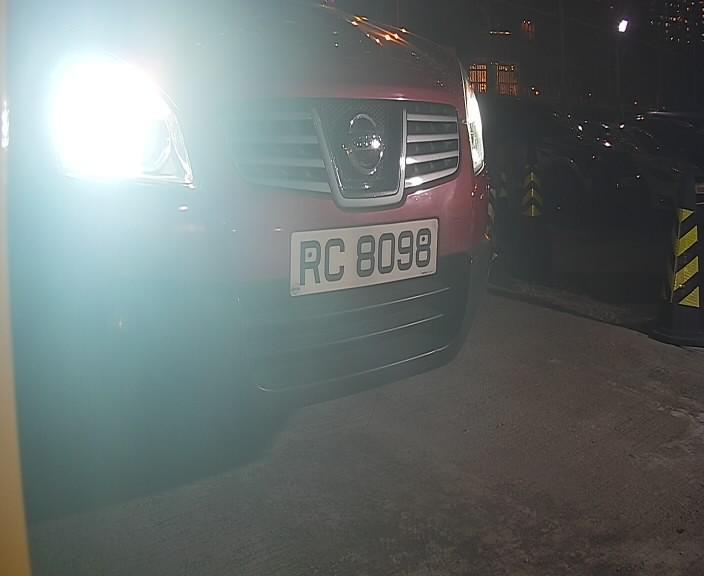privatecar: (2, 5, 514, 448)
